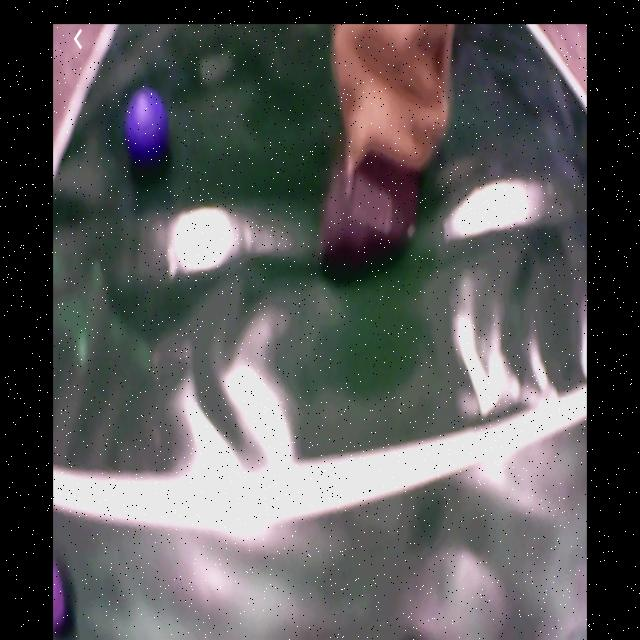ball: (126, 87, 170, 165), (54, 555, 68, 632)
